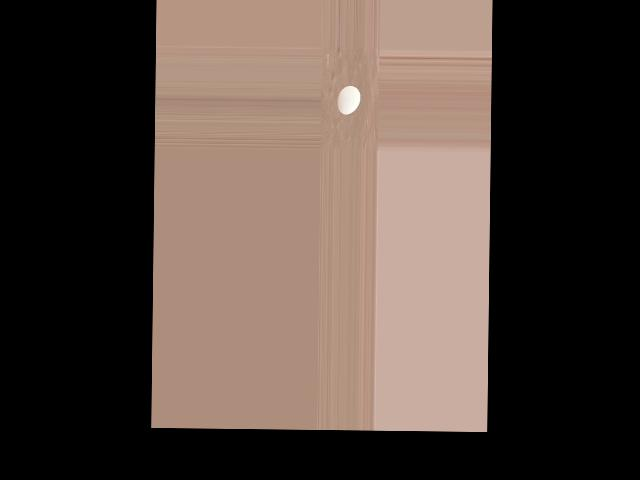egg: (337, 86, 360, 115)
